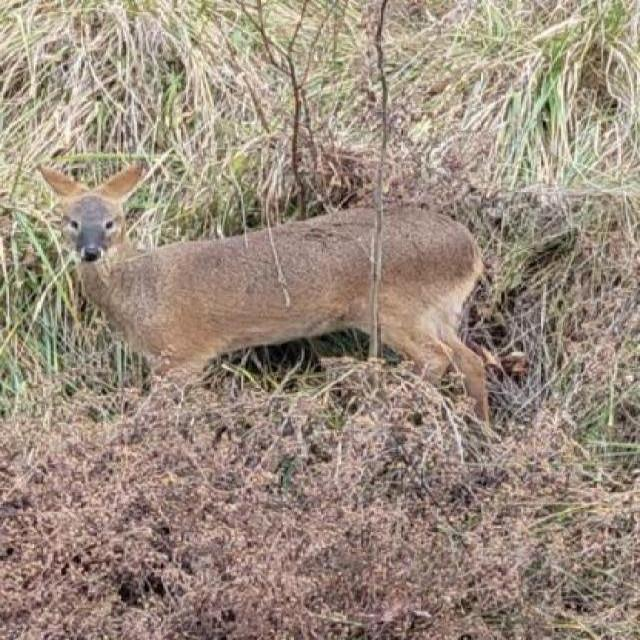deer: (41, 153, 486, 367)
